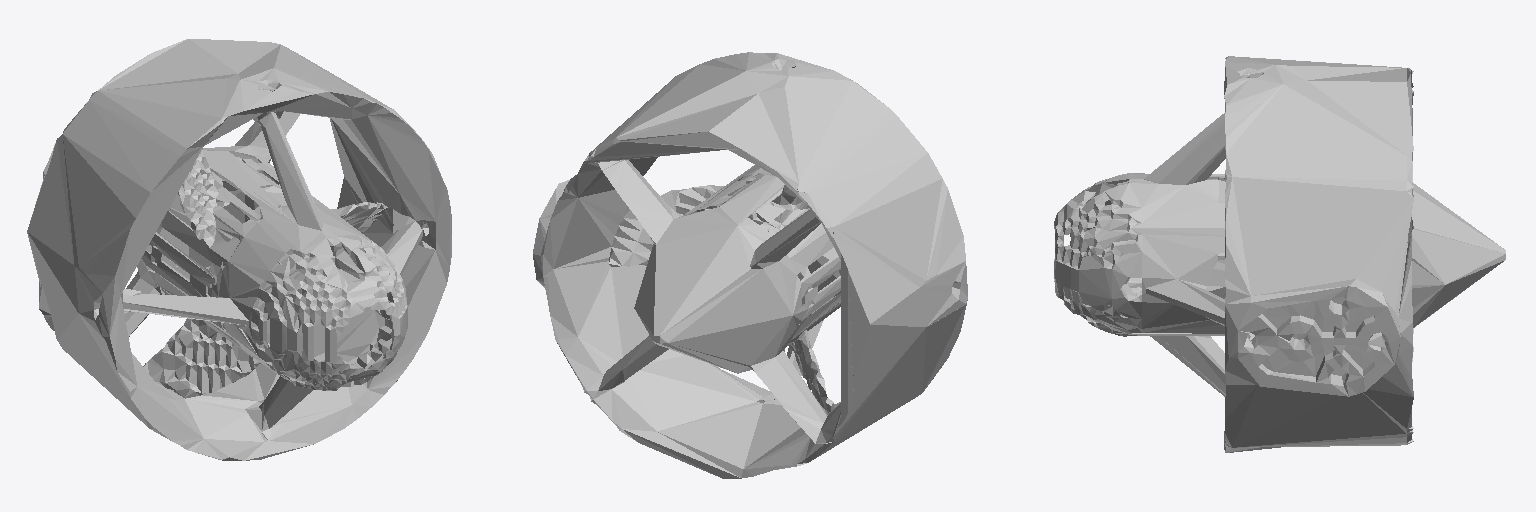
File: tl-thruster_visual_tl-thruster.obj
The picture shows the model from 3 angles: view 1: azimuth 30°, elevation 25°; view 2: azimuth 150°, elevation 25°; view 3: azimuth 270°, elevation 25°; orthographic projection.
Parts seen in each view (by area): view 1: tl-thruster_visual_tl-thruster; view 2: tl-thruster_visual_tl-thruster; view 3: tl-thruster_visual_tl-thruster.
Boxes of the visible parts, x1,y1,x2,y2 form: tl-thruster_visual_tl-thruster: [27, 39, 451, 460]; tl-thruster_visual_tl-thruster: [533, 52, 967, 478]; tl-thruster_visual_tl-thruster: [1054, 56, 1505, 452].
Size of the model in its own units: 0.0975 by 0.0967 by 0.1085.